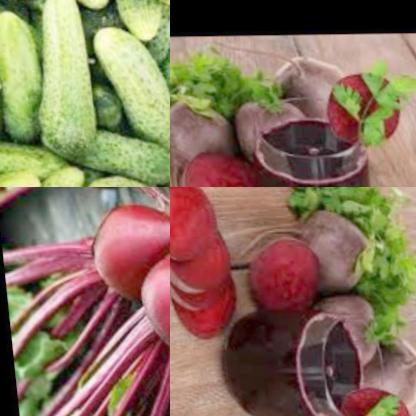beet: (84, 200, 170, 299), (293, 211, 378, 294), (244, 235, 325, 311), (320, 72, 403, 143), (170, 91, 234, 171), (268, 55, 347, 119), (353, 336, 416, 411), (170, 228, 236, 298), (128, 248, 170, 354), (315, 294, 375, 368), (228, 100, 306, 155), (170, 277, 236, 342), (172, 145, 254, 187), (170, 187, 216, 260), (332, 387, 409, 416)
cucumber: (0, 0, 170, 187)
